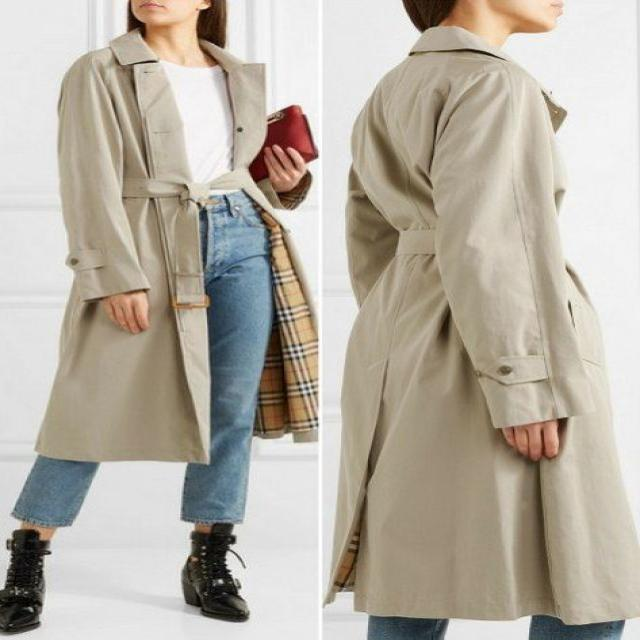coat: (329, 21, 640, 627), (32, 26, 319, 473)
short sleeve shirt: (151, 56, 240, 199)
trousers: (8, 186, 279, 535)
